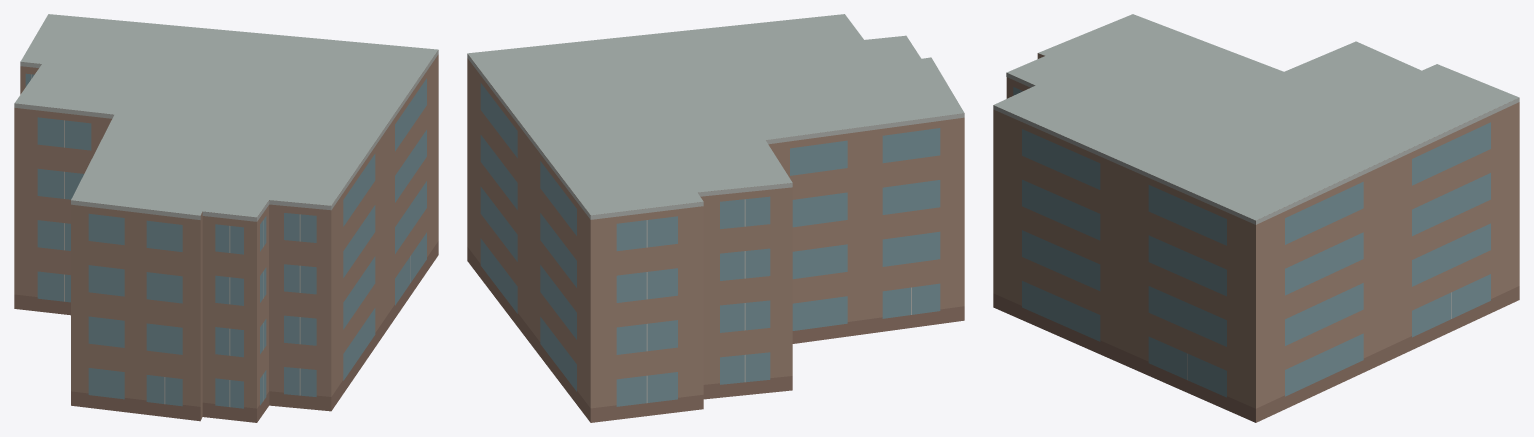
Rendered from survey-upis-32845290.glb.
The picture shows the model from 3 angles, left to right: view 1: azimuth 30°, elevation 25°; view 2: azimuth 150°, elevation 25°; view 3: azimuth 270°, elevation 25°; orthographic projection. The views are drawn at different scales.
Visible parts, largest first — view 1: survey-upis-32845290.tmp; view 2: survey-upis-32845290.tmp; view 3: survey-upis-32845290.tmp.
Part boxes in pixels (left/top/right/bottom): survey-upis-32845290.tmp: left=14, top=14, right=438, bottom=422; survey-upis-32845290.tmp: left=467, top=14, right=964, bottom=422; survey-upis-32845290.tmp: left=993, top=14, right=1519, bottom=422.
Bounding box in the file's own units: 24.76 × 11.3 × 26.65.
